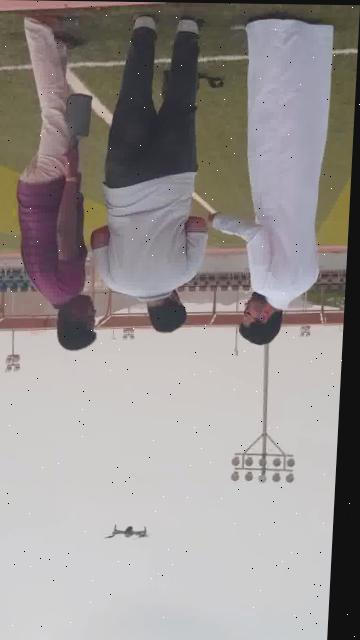drone: (111, 518, 161, 546)
